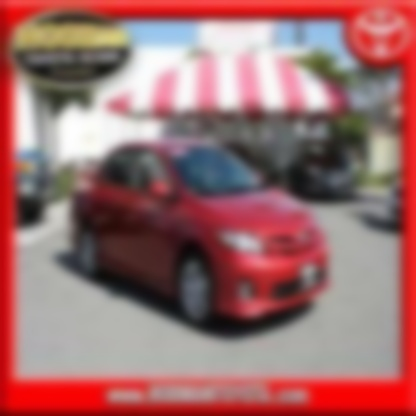Vehicle: (61, 126, 337, 334)
